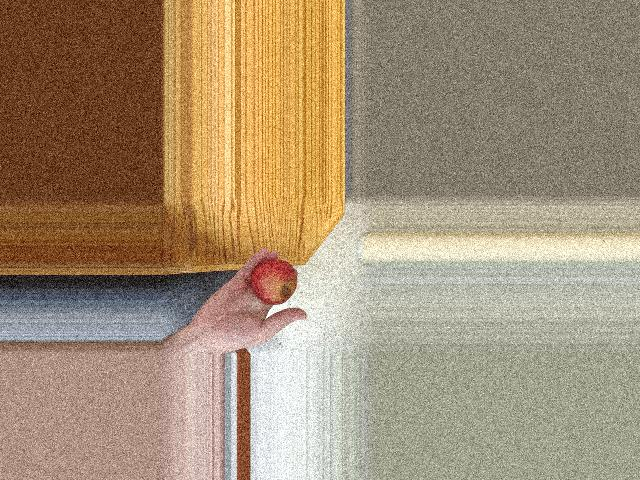apple: (252, 257, 298, 308)
